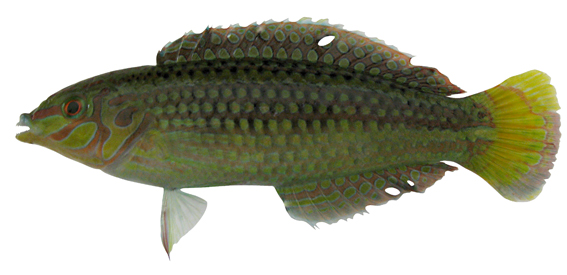fish: (15, 17, 562, 262)
